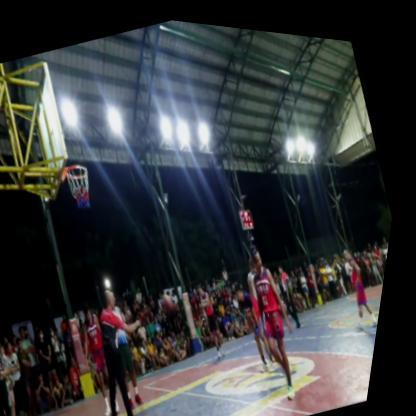basketball: (164, 283, 189, 314)
rim: (48, 139, 113, 225)
